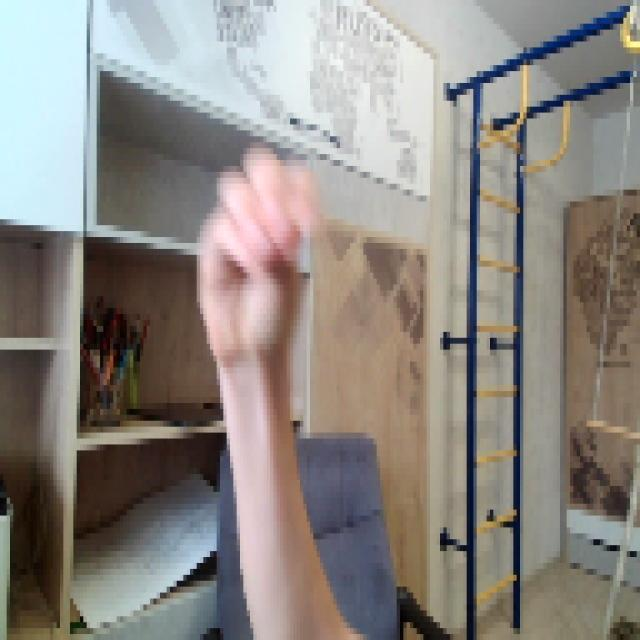left_click: (190, 136, 313, 356)
